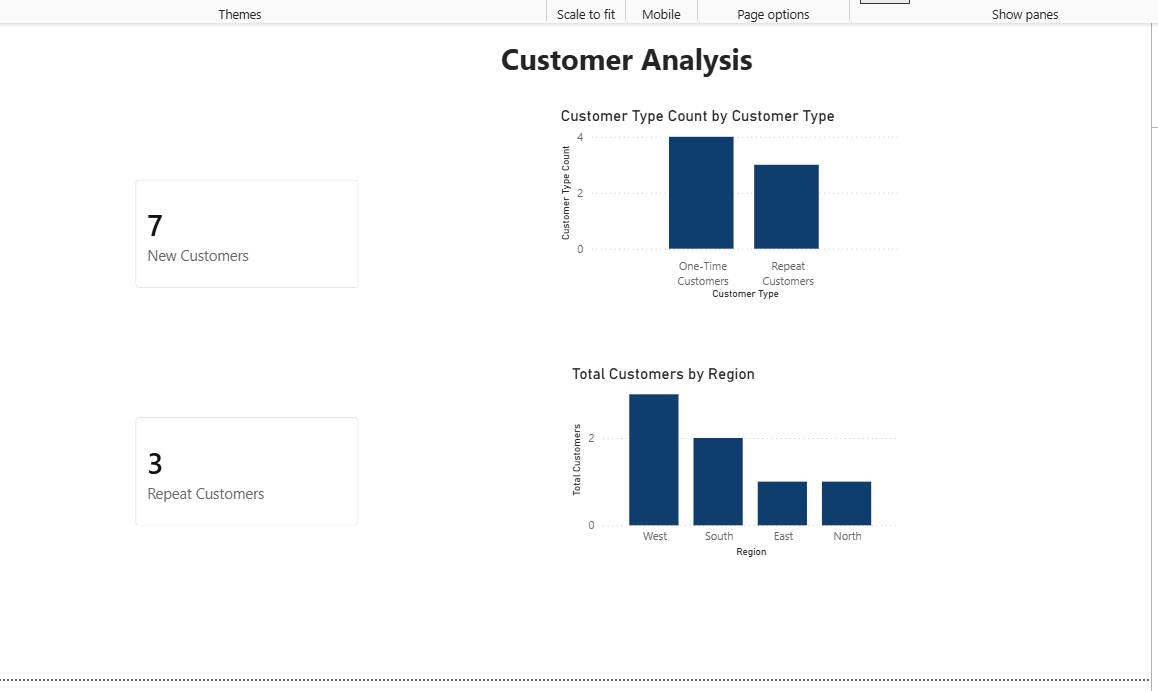

The page's visual inventory and layout, read from the dashboard file:
{"tool":"powerbi","page":{"name":"Customer Analysis","canvas":[1280,720],"ordinal":2},"visuals":[{"type":"cardVisual","fields":{"Data":["Fact_Sales.New Customers"]},"box":[148.2,155.1,279.9,153.7],"z":0},{"type":"cardVisual","fields":{"Data":["Fact_Sales.Repeat Customers"]},"box":[148.2,415.8,279.9,153.7],"z":1000},{"type":"clusteredColumnChart","fields":{"Category":["Customer_Type.Customer Type"],"Y":["Customer_Type.Customer Type Count"]},"box":[627.1,91.9,381.5,216.8],"z":2000},{"type":"clusteredColumnChart","fields":{"Y":["Fact_Sales.Total Customers"],"Category":["Dim_Customer.Region"]},"box":[639.5,374.6,369.1,216.8],"z":3000},{"type":"textbox","box":[129,12.3,1151.3,68.6],"z":3001}]}

Visuals, with their boxes on the page's 1280x720 design canvas (x1, y1, x2, y2). These are canvas units, not pixel positions in the 1158x691 screenshot, which may show the page scaled, cropped or inside an application window:
cardVisual - Fact_Sales.New Customers: crop(148, 155, 428, 309)
cardVisual - Fact_Sales.Repeat Customers: crop(148, 416, 428, 570)
clusteredColumnChart - Customer_Type.Customer Type x Customer_Type.Customer Type Count: crop(627, 92, 1009, 309)
clusteredColumnChart - Fact_Sales.Total Customers x Dim_Customer.Region: crop(640, 375, 1009, 591)
textbox: crop(129, 12, 1280, 81)
